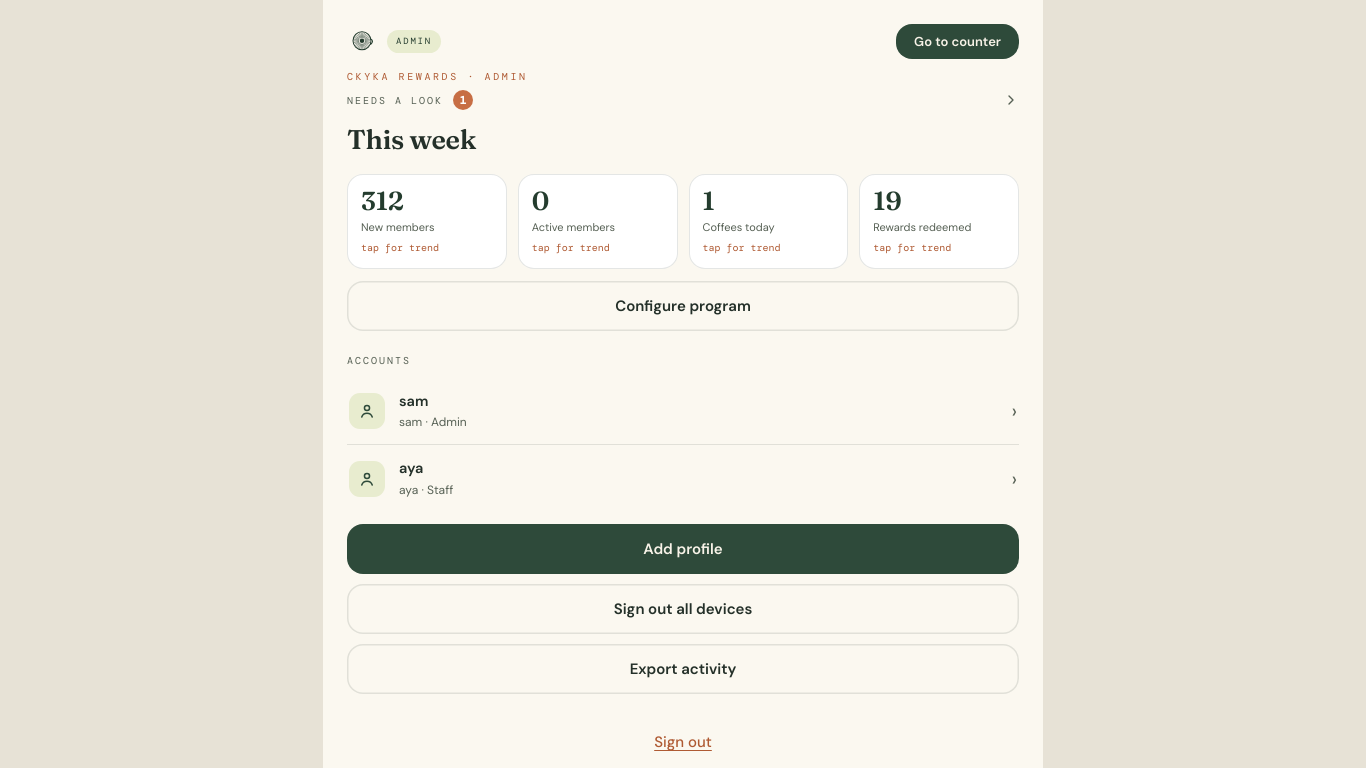
Test: Admin screen › a stat breakdown shows the chart only — no attributed per-action list
Click the button with class "stat" showing "312 New members tap for trend" at (427, 221), box left=347, top=174, right=507, bottom=269
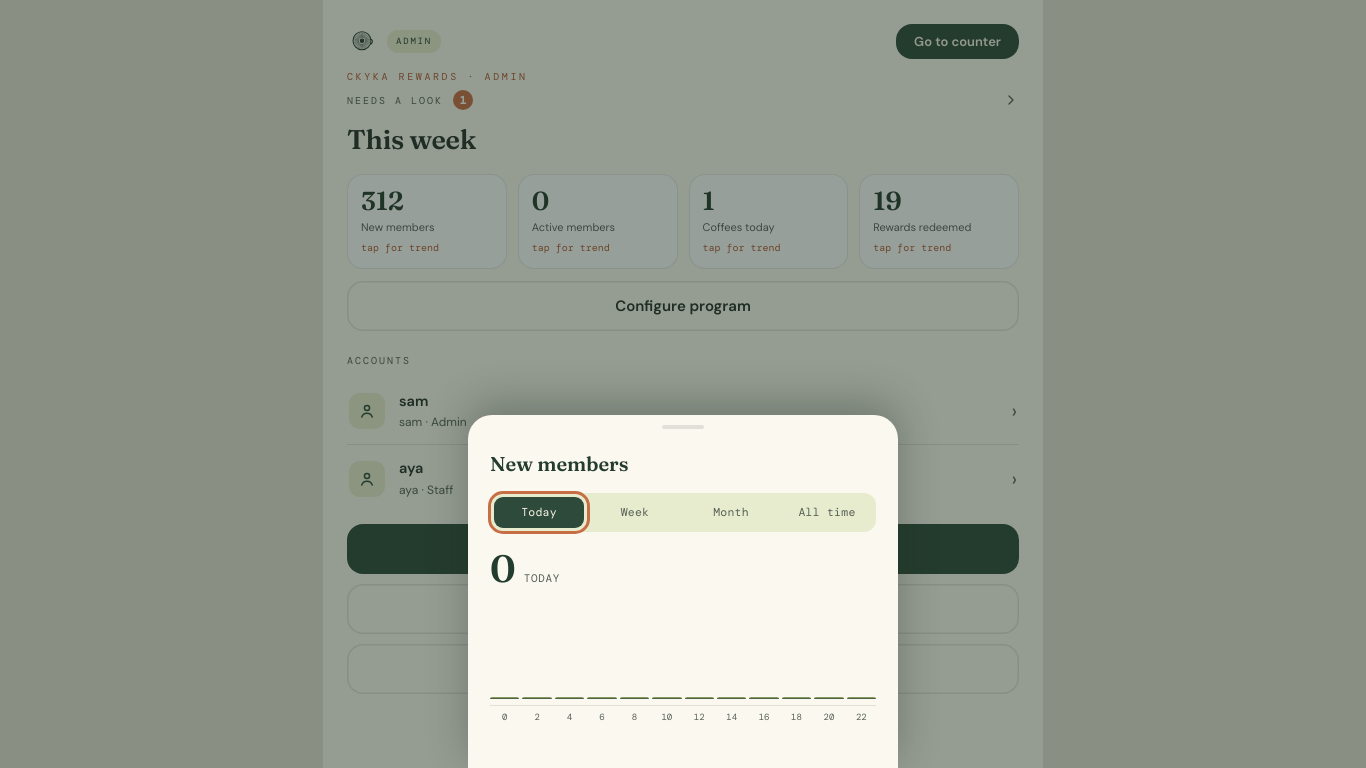
Result: the element with class "statdetail" is shown at left=490, top=448, right=876, bottom=724
Result: the element with class "statdetail-bars" is shown at left=490, top=596, right=876, bottom=706
